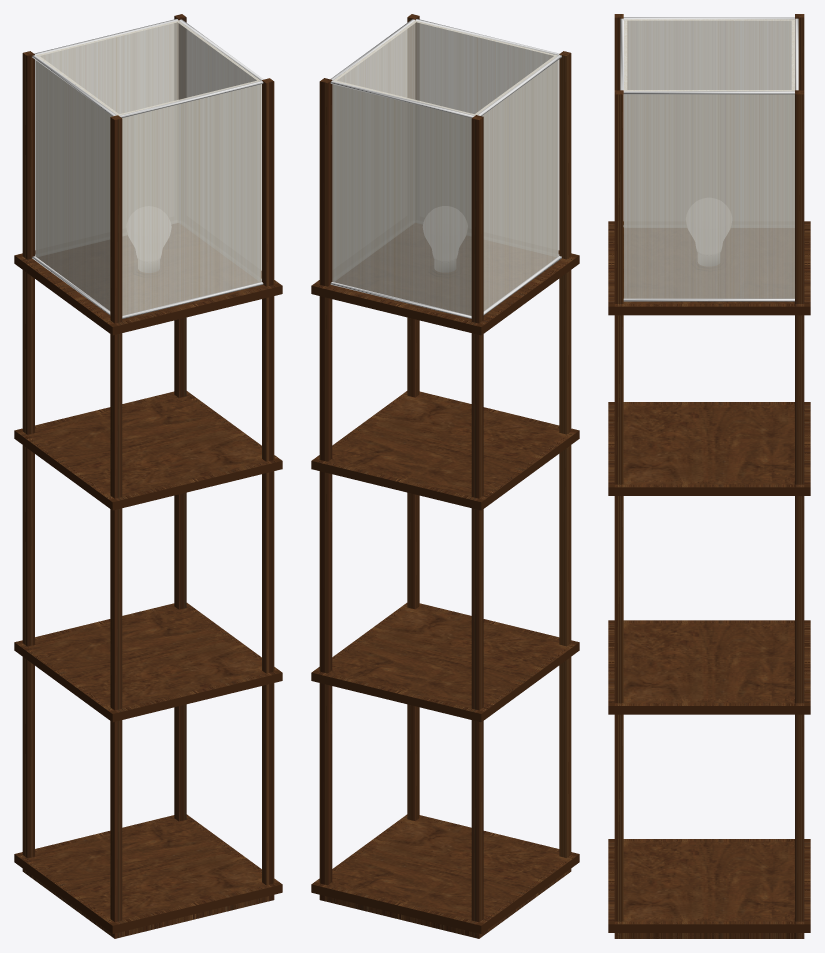
File: japanesefloorlamp.glb
The picture shows the model from 3 angles, left to right: view 1: azimuth 30°, elevation 25°; view 2: azimuth 150°, elevation 25°; view 3: azimuth 270°, elevation 25°; orthographic projection. The views are drawn at different scales.
Parts seen in each view (by area): view 1: Plane, Plane.002, Plane.001; view 2: Plane, Plane.002, Plane.001; view 3: Plane, Plane.002, Plane.001.
Part boxes in pixels (x1,y1,x2,y2): Plane: [14, 14, 282, 938]; Plane.002: [35, 20, 261, 315]; Plane.001: [32, 19, 263, 318]; Plane: [311, 14, 579, 938]; Plane.002: [332, 20, 558, 315]; Plane.001: [330, 19, 561, 318]; Plane: [608, 14, 810, 938]; Plane.002: [624, 19, 794, 298]; Plane.001: [620, 17, 798, 301].
Bounding box in the file's own units: 0.4877 × 2.24 × 0.4877.
6 materials, 2 textured.
